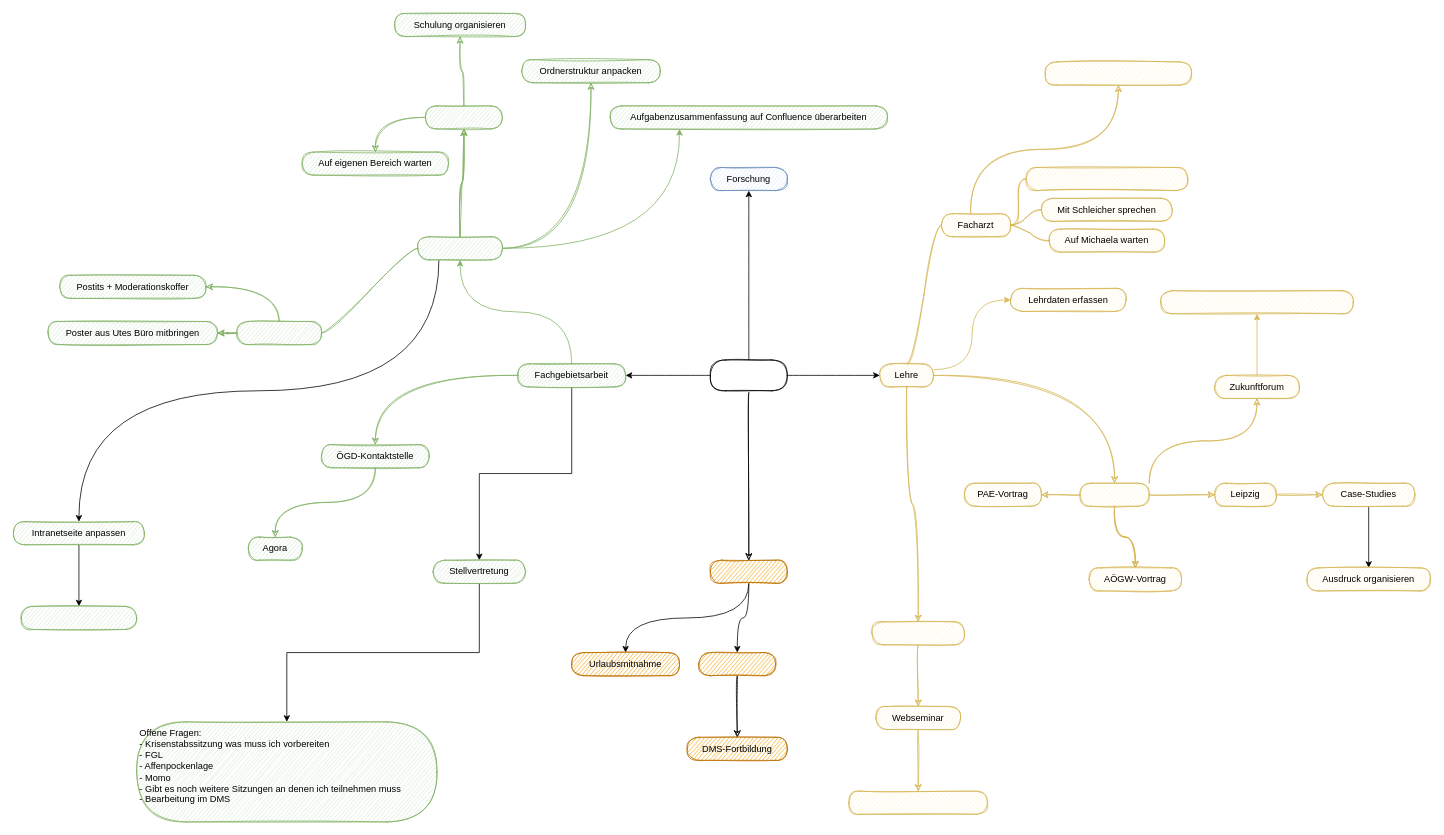
Some shapes in this 1444 by 835 pixel diagram are drawn without their labels. Here are the shapes that lost their labels. From the top down, the box of each, then its label:
(1045, 61, 1192, 85): Mit Dreckentrah telefonieren
(425, 105, 502, 129): Confluence
(1025, 167, 1188, 191): Weitere Krankenhäuser suchen
(417, 236, 502, 260): Organisation
(1160, 290, 1353, 314): Klärung der Teilnahme an Moderation
(236, 321, 321, 345): FGB Klausur
(710, 359, 787, 391): To Do
(1079, 482, 1149, 506): Vorträge
(710, 559, 787, 583): Verwaltung
(20, 606, 137, 629): Zuständigkeit klären
(871, 621, 964, 645): AÖGW-Kontakt
(698, 652, 776, 676): Fortbildung
(848, 790, 988, 814): Ankündigung vorbereiten
